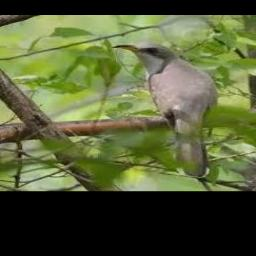Cuckoo: (113, 43, 217, 176)
